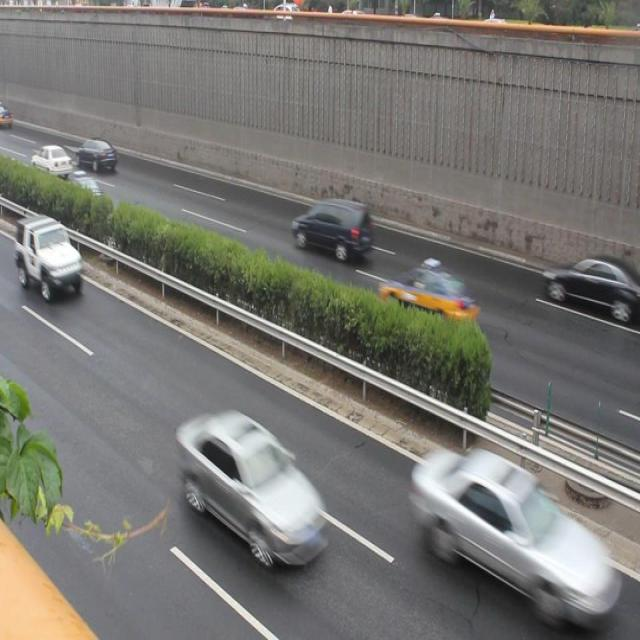car: (411, 446, 592, 605), (177, 410, 331, 564), (375, 265, 478, 334), (15, 214, 83, 299), (540, 254, 627, 318), (52, 174, 104, 222), (75, 136, 118, 173), (31, 145, 72, 180)
truck: (290, 198, 371, 262)
